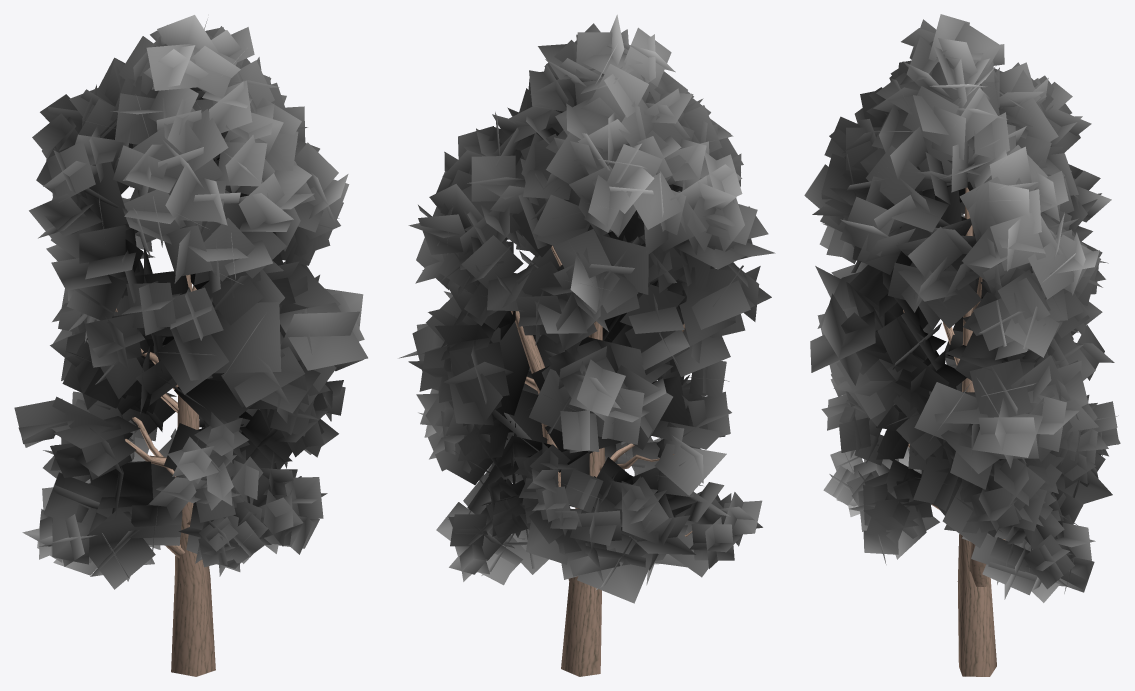
The model's file is b_plant_tree_02.fbx.
3 views of the same model, side by side, from view 1: azimuth 30°, elevation 25°; view 2: azimuth 150°, elevation 25°; view 3: azimuth 270°, elevation 25° (orthographic). The views are drawn at different scales.
Parts seen in each view (by area): view 1: b_plant_tree_02_02, b_plant_tree_02_01; view 2: b_plant_tree_02_02, b_plant_tree_02_01; view 3: b_plant_tree_02_02, b_plant_tree_02_01.
Boxes of the visible parts, x1=… form: b_plant_tree_02_02: x1=14, y1=15, x2=367, y2=589; b_plant_tree_02_01: x1=115, y1=274, x2=215, y2=676; b_plant_tree_02_02: x1=398, y1=14, x2=775, y2=603; b_plant_tree_02_01: x1=511, y1=245, x2=692, y2=676; b_plant_tree_02_02: x1=804, y1=14, x2=1120, y2=602; b_plant_tree_02_01: x1=903, y1=187, x2=1005, y2=676.
Size of the model in its own units: 7429 by 14288 by 6331.
